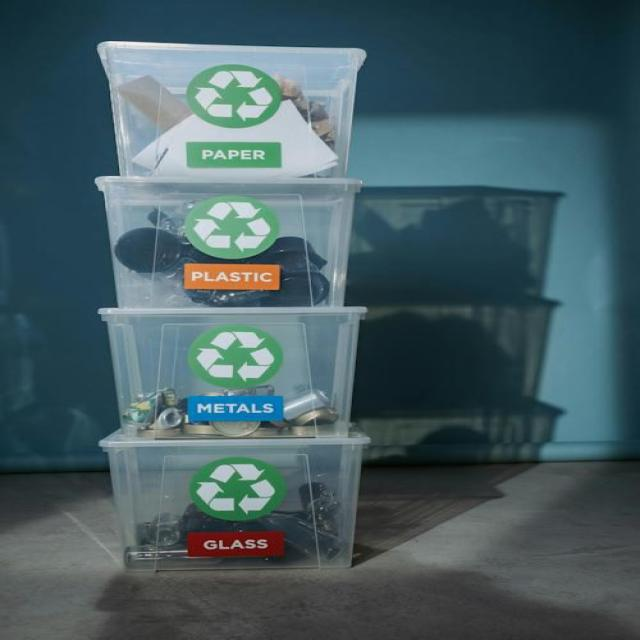paper: (139, 108, 329, 172)
plastic: (80, 18, 386, 573), (120, 225, 182, 278)
